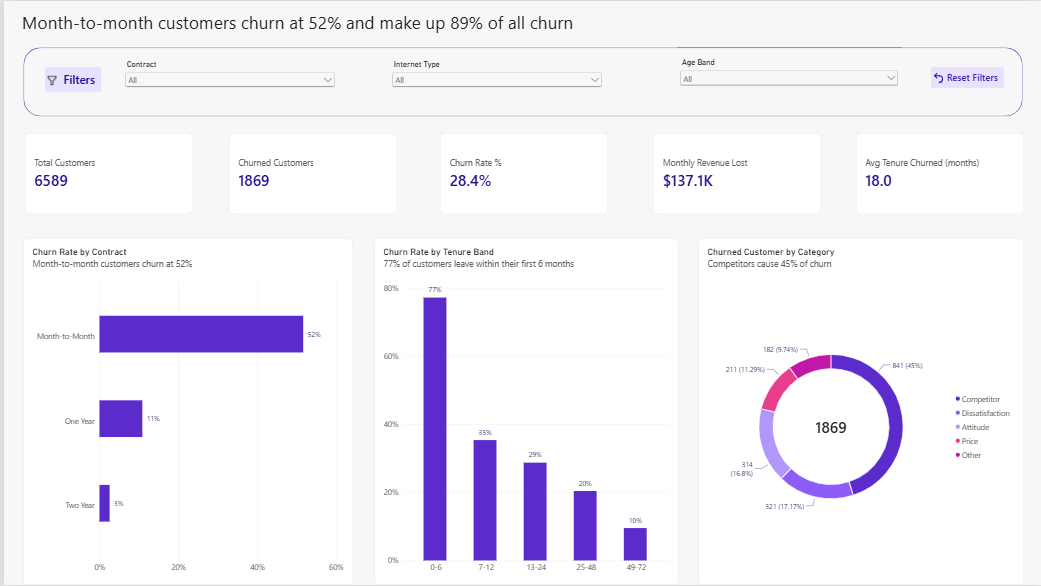

Layout of this report page (visuals, bound fields, positions):
{"tool":"powerbi","page":{"name":"Page 1","canvas":[1920,1080],"ordinal":0},"visuals":[{"type":"shape","box":[36.5,85.1,1850.1,127.6],"z":0},{"type":"textbox","box":[32.5,17.5,1037.5,67.5],"z":1000},{"type":"cardVisual","fields":{"Data":["churn.Total Customers"]},"box":[37.5,245,310,150],"z":2000},{"type":"cardVisual","fields":{"Data":["churn.Churned Customers"]},"box":[417.5,245,310,150],"z":3000},{"type":"cardVisual","fields":{"Data":["churn.Churn Rate %"]},"box":[807.5,245,310,150],"z":4000},{"type":"cardVisual","fields":{"Data":["churn.Monthly Revenue Lost"]},"box":[1202.5,245,310,150],"z":5000},{"type":"cardVisual","fields":{"Data":["churn.Avg Tenure Churned"]},"box":[1577.5,245,310,150],"z":6000},{"type":"clusteredBarChart","title":"Churn Rate by Contract","fields":{"Category":["churn.Contract"],"Y":["churn.Churn Rate %"]},"box":[35,437.5,610,642.5],"z":7000},{"type":"clusteredColumnChart","title":"Churn Rate by Tenure Band","fields":{"Category":["churn.Tenure Band"],"Y":["churn.Churn Rate %"]},"box":[685,437.5,562.5,642.5],"z":8000},{"type":"donutChart","title":"Churned Customer by Category","fields":{"Category":["churn.Churn Category"],"Y":["churn.Churned Customers"]},"box":[1285,437.5,602.5,642.5],"z":9000},{"type":"slicer","fields":{"Values":["churn.Contract"]},"box":[218.7,109.4,398,88.1],"z":10000},{"type":"slicer","fields":{"Values":["churn.Internet Type"]},"box":[713.9,109.4,398,69.9],"z":11000},{"type":"slicer","fields":{"Values":["churn.Age Band"]},"box":[1248.6,106.3,413.2,72.9],"z":12000},{"type":"actionButton","box":[1716,123,136,40],"z":13000},{"type":"actionButton","box":[75.8,123.2,105.3,47.4],"z":14000}]}

Visuals, with their boxes in screenshot pixels (x1, y1, x2, y2), scaled from the page's 1920x1080 canvas onto the 1041x586 screenshot:
shape: 20 46 1023 115
textbox: 18 9 580 46
cardVisual - churn.Total Customers: 20 133 188 214
cardVisual - churn.Churned Customers: 226 133 394 214
cardVisual - churn.Churn Rate %: 438 133 606 214
cardVisual - churn.Monthly Revenue Lost: 652 133 820 214
cardVisual - churn.Avg Tenure Churned: 855 133 1023 214
"Churn Rate by Contract" clusteredBarChart: 19 237 350 585
"Churn Rate by Tenure Band" clusteredColumnChart: 371 237 676 585
"Churned Customer by Category" donutChart: 697 237 1023 585
slicer - churn.Contract: 119 59 334 107
slicer - churn.Internet Type: 387 59 603 97
slicer - churn.Age Band: 677 58 901 97
actionButton: 930 67 1004 88
actionButton: 41 67 98 93
